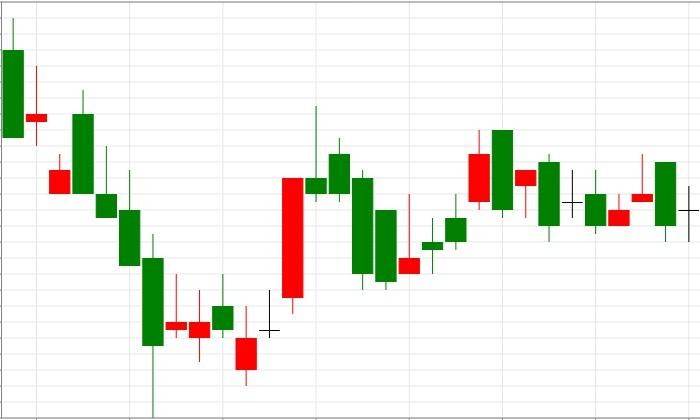bearish_engulfing_fall: (398, 130, 512, 275)
shooting_star_fall: (235, 106, 326, 386)
